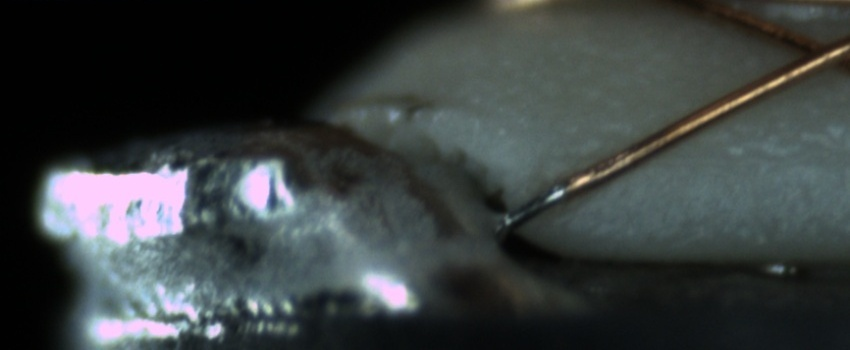CL: (775, 24, 849, 80)
DL: (639, 128, 849, 192)
TS: (502, 184, 567, 229)
